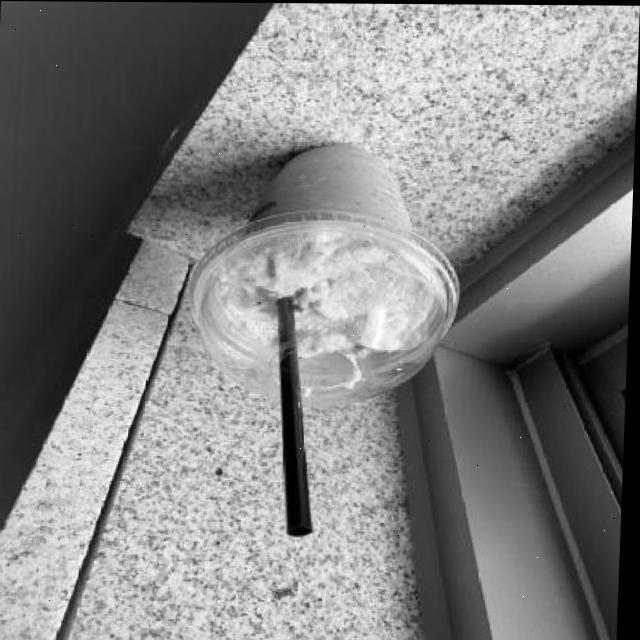cup: (175, 131, 488, 408)
